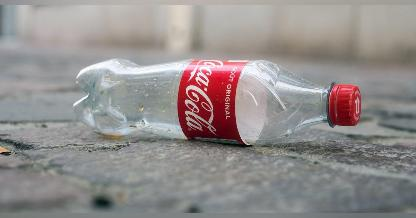Plastic Bottle: (73, 58, 362, 146)
